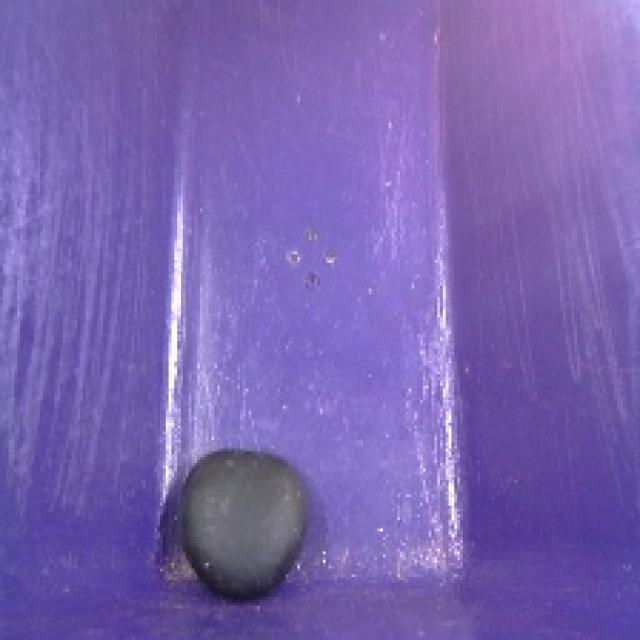cobbles: (166, 442, 319, 613)
